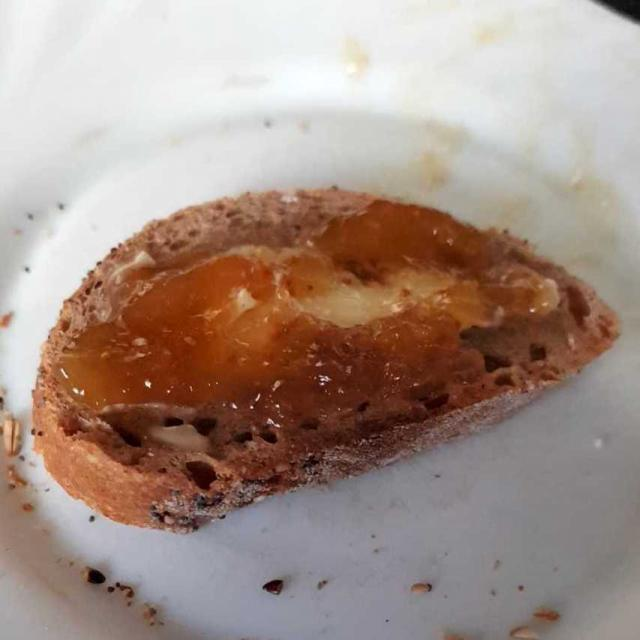bread-wholemeal: (35, 187, 616, 526)
jam: (36, 194, 609, 526)
